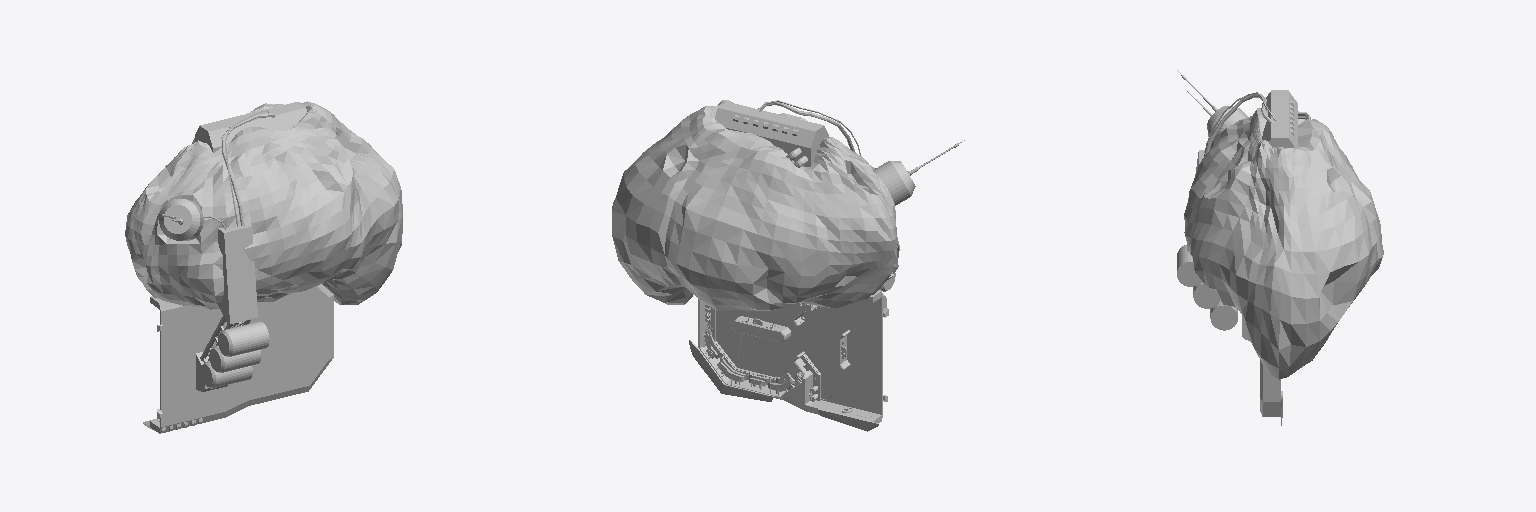
Rendered from mining_01-failrotation.obj.
The picture shows the model from 3 angles: view 1: azimuth 30°, elevation 25°; view 2: azimuth 150°, elevation 25°; view 3: azimuth 270°, elevation 25°; orthographic projection.
Parts seen in each view (by area): view 1: Cube_Cube_asteroid_Material.001; view 2: Cube_Cube_asteroid_Material.001; view 3: Cube_Cube_asteroid_Material.001.
Part boxes in pixels (bbox=[...]): Cube_Cube_asteroid_Material.001: bbox=[125, 101, 402, 433]; Cube_Cube_asteroid_Material.001: bbox=[612, 100, 964, 431]; Cube_Cube_asteroid_Material.001: bbox=[1177, 70, 1383, 425].
Bounding box in the file's own units: 59.76 × 58.6 × 36.54.